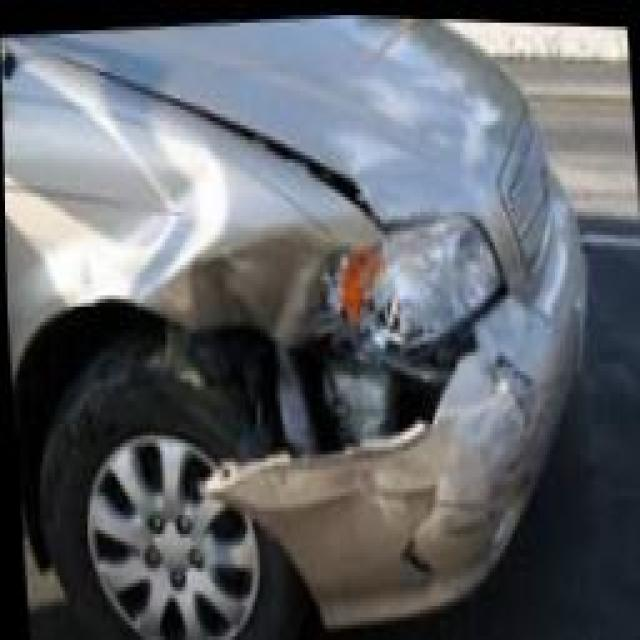Bonnet: (7, 11, 520, 212)
Bumper: (188, 242, 598, 635)
Fender: (1, 34, 385, 352)
Light: (296, 213, 510, 350)
